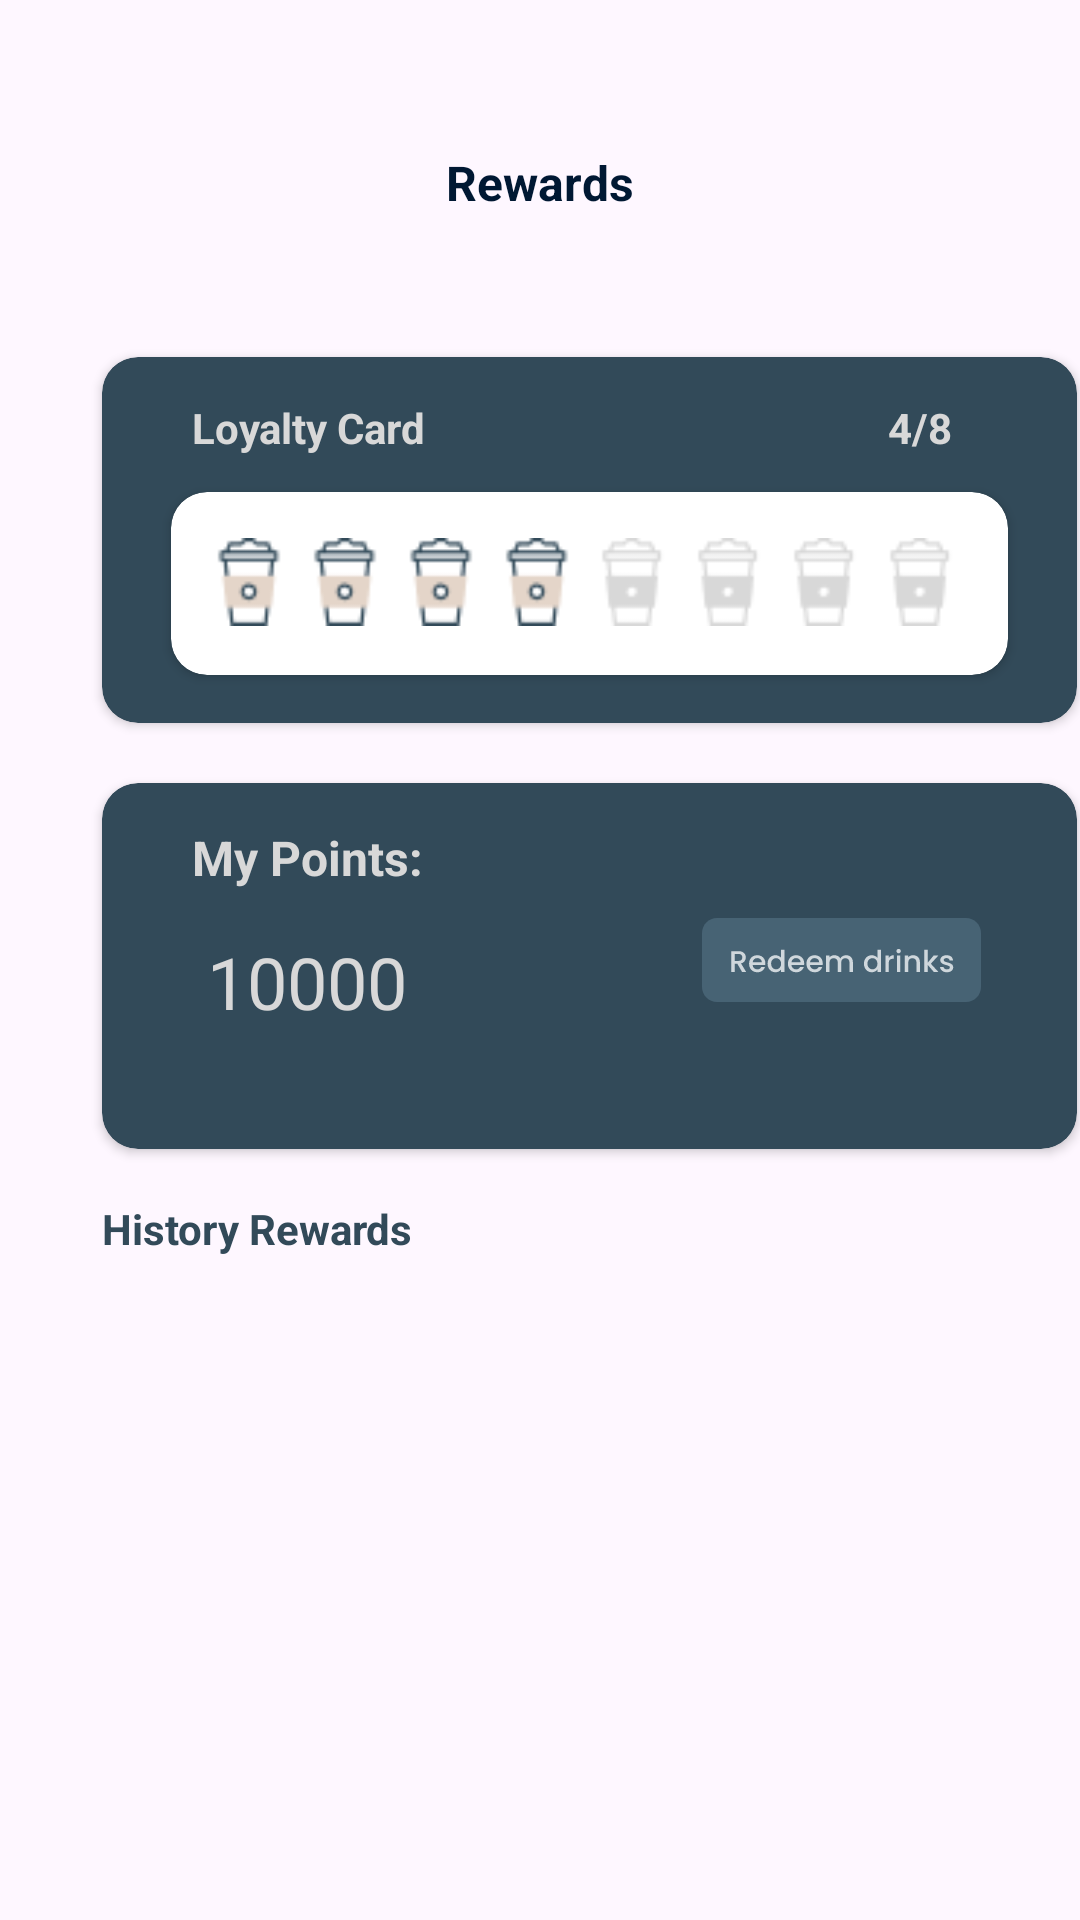

Named icons in this screenshot (1080 x 1920) and their centers, [x,y]:
loyalty cup checked: [249,582], [345,582], [441,582], [537,582]
loyalty cup not checked: [631,582], [727,582], [823,582], [919,582]
